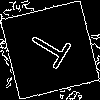T: (25, 25, 81, 75)
